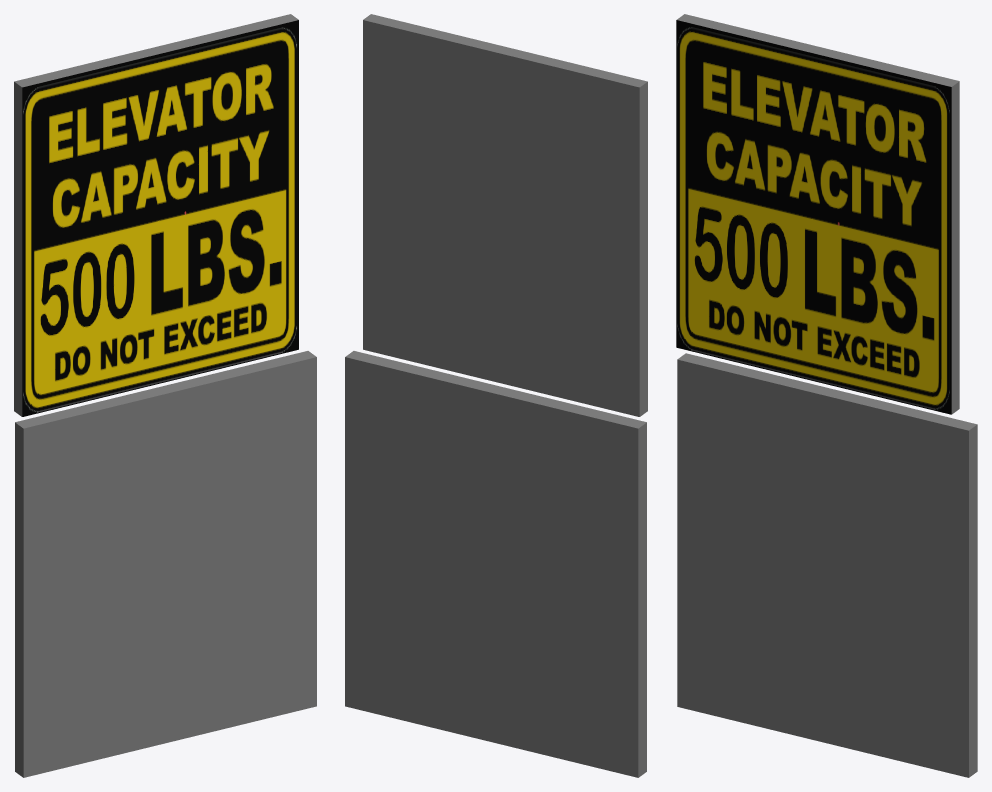
The model's file is Stage3AscenseurWarn.fbx.
3 views of the same model, side by side, from view 1: azimuth 30°, elevation 25°; view 2: azimuth 150°, elevation 25°; view 3: azimuth 330°, elevation 25° (orthographic).
Visible parts, largest first — view 1: pCube22, pCube51; view 2: pCube22, pCube51; view 3: pCube22, pCube51.
Part boxes in pixels (x1=…): pCube22: x1=15, y1=351, x2=316, y2=777; pCube51: x1=14, y1=14, x2=298, y2=416; pCube22: x1=345, y1=351, x2=646, y2=777; pCube51: x1=363, y1=14, x2=647, y2=416; pCube22: x1=677, y1=353, x2=977, y2=777; pCube51: x1=676, y1=14, x2=959, y2=414.
Bounding box in the file's own units: 0.4128 × 0.9253 × 0.0211.
Materials: 2 (1 with a texture image).
